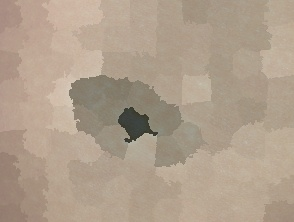vitiligo: (41, 39, 212, 211)
